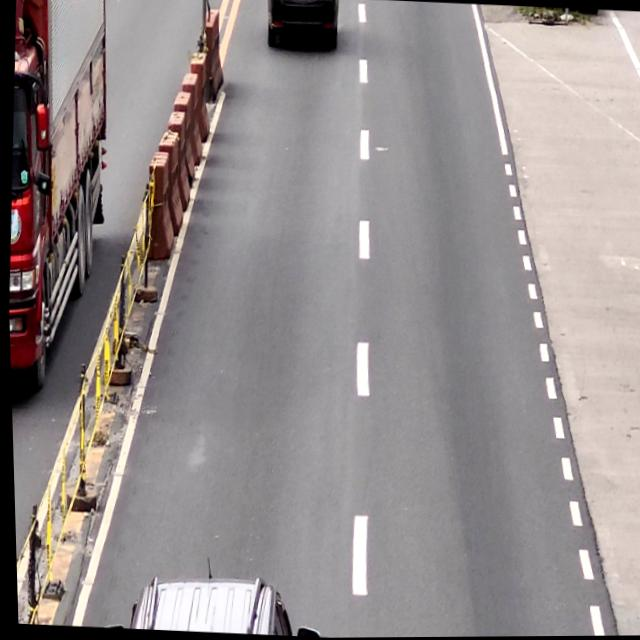Car: (95, 575, 322, 639), (265, 0, 340, 55)
